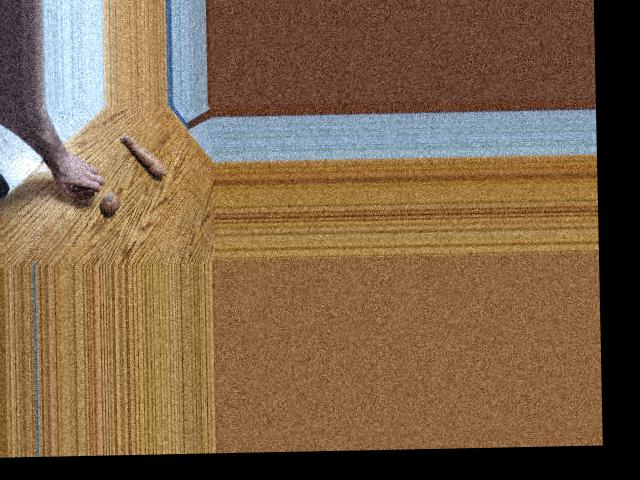onion: (73, 177, 95, 198)
